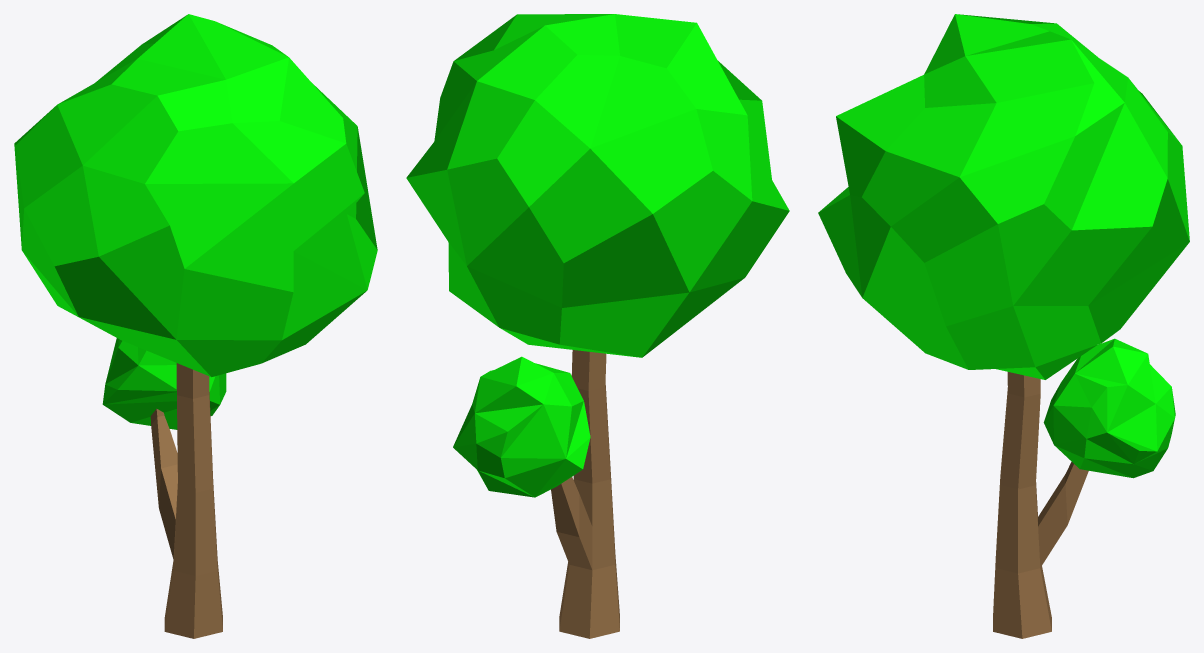
The model's file is SM_Tree_03.fbx.
3 renders of one model, left to right at view 1: azimuth 30°, elevation 25°; view 2: azimuth 150°, elevation 25°; view 3: azimuth 270°, elevation 25°, orthographic. The views are drawn at different scales.
Visible parts, largest first — view 1: Tree_03; view 2: Tree_03; view 3: Tree_03.
Part boxes in pixels (box(x1,y1,x2,y2)): Tree_03: box(14, 14, 377, 638); Tree_03: box(406, 14, 789, 638); Tree_03: box(818, 14, 1189, 638).
Bounding box in the file's own units: 839 × 1487 × 843.
